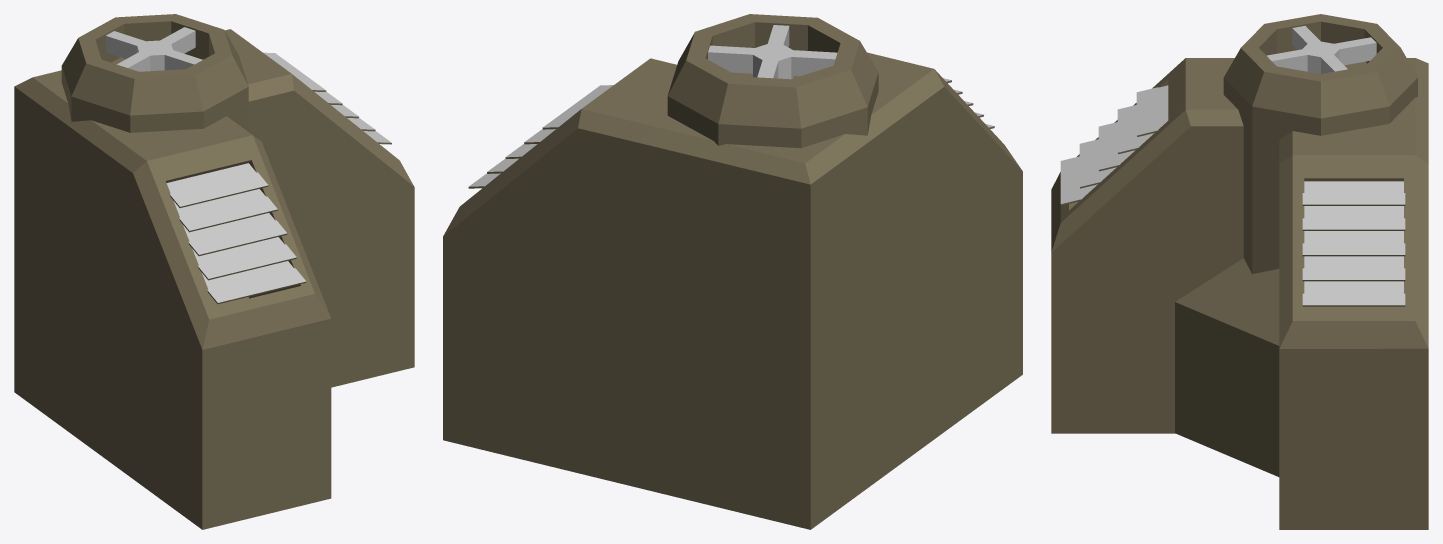
Rendered from OxygenGen.fbx.
3 views of the same model, side by side, from view 1: azimuth 30°, elevation 25°; view 2: azimuth 150°, elevation 25°; view 3: azimuth 270°, elevation 25° (orthographic). The views are drawn at different scales.
Visible parts, largest first — view 1: Cylinder.001; view 2: Cylinder.001; view 3: Cylinder.001.
Part boxes in pixels (left/top/right/bottom): Cylinder.001: left=14, top=14, right=414, bottom=529; Cylinder.001: left=443, top=14, right=1022, bottom=529; Cylinder.001: left=1051, top=14, right=1428, bottom=529.
Bounding box in the file's own units: 126 × 135 × 126.
